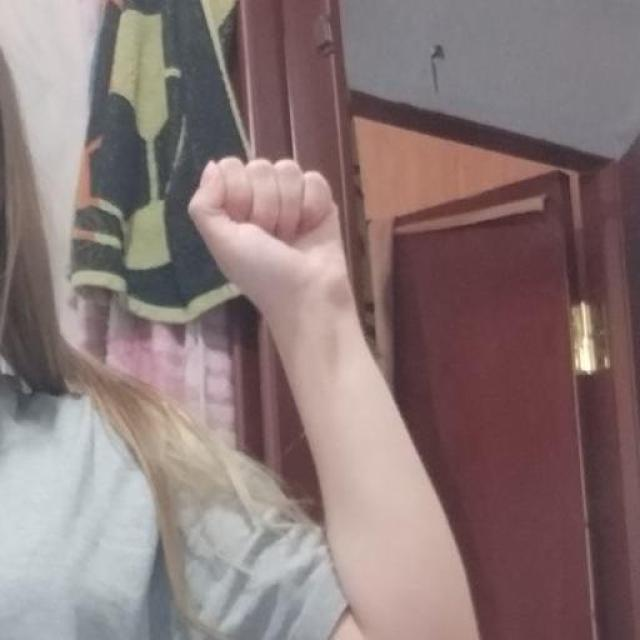hand: (185, 153, 356, 325)
